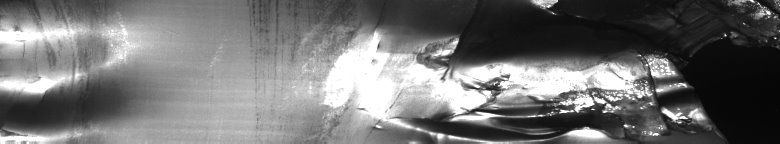ke: (351, 0, 654, 144)
